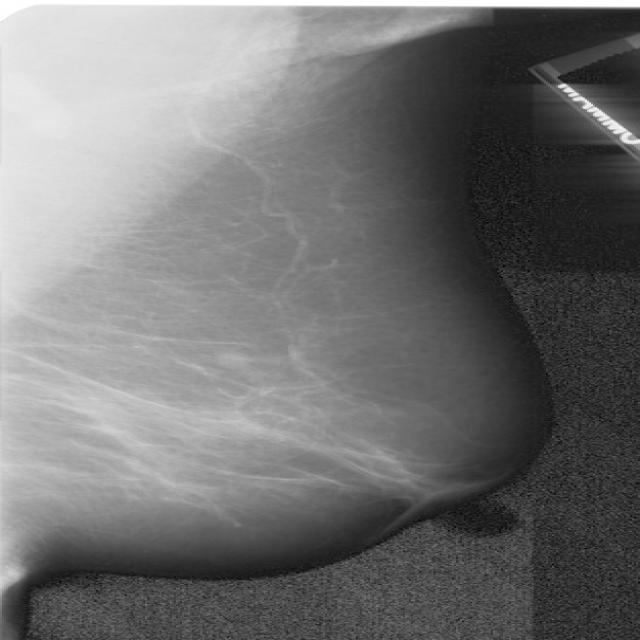tumour: (210, 349, 253, 372)
